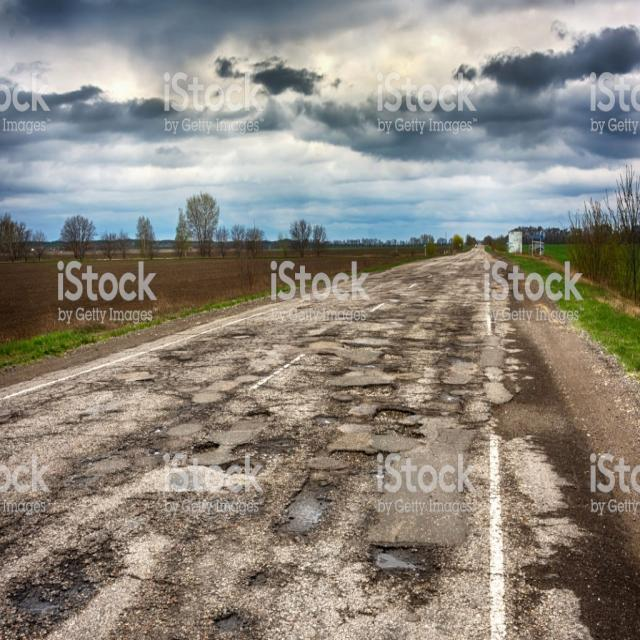Pothole: (6, 544, 111, 628), (269, 476, 335, 549), (364, 534, 442, 587), (364, 401, 430, 451), (216, 436, 262, 500), (202, 607, 249, 640), (303, 401, 344, 437), (226, 325, 267, 352), (162, 348, 193, 374), (243, 404, 277, 426), (194, 440, 225, 461), (325, 364, 363, 381), (312, 343, 343, 363), (436, 390, 463, 412), (383, 364, 406, 386), (248, 572, 271, 590), (422, 291, 442, 307)
